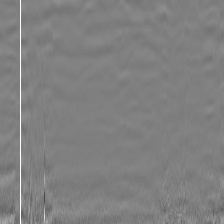cavities: (20, 56, 215, 157)
